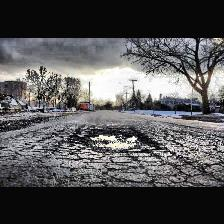pothole: (78, 126, 158, 152)
